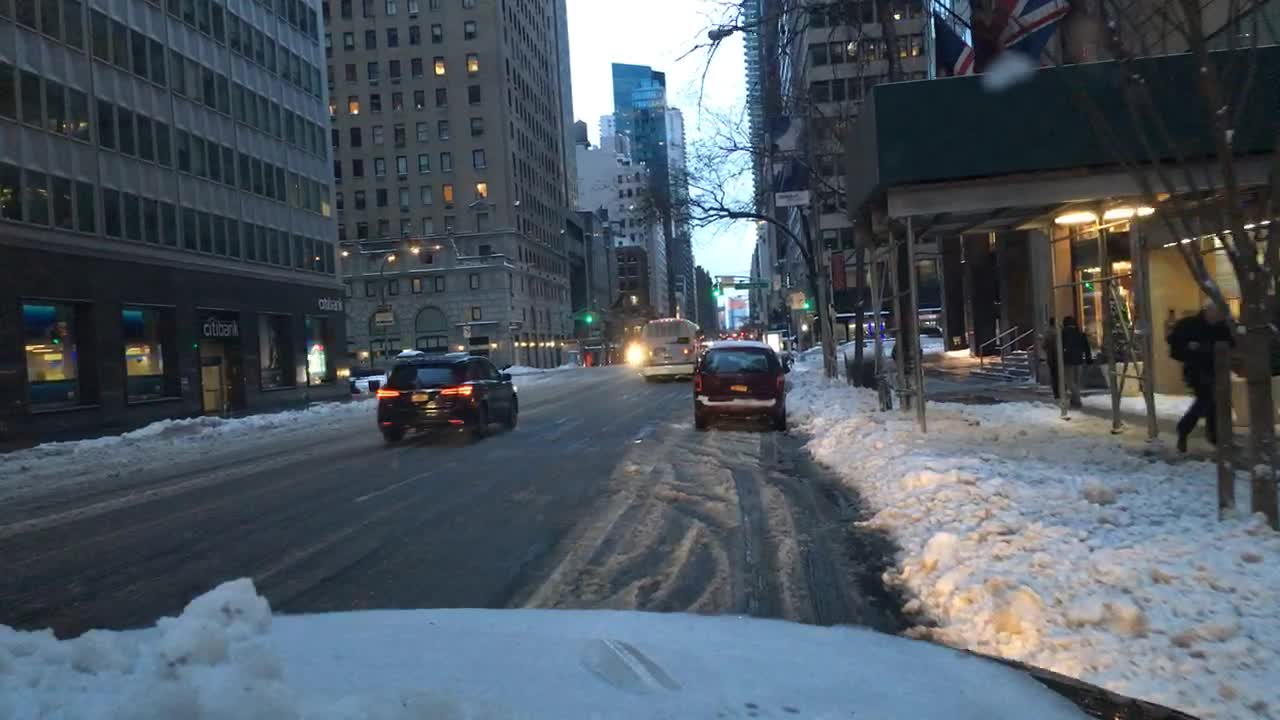bus: (638, 316, 701, 381)
car: (374, 351, 517, 442), (690, 339, 787, 432), (774, 345, 807, 366), (626, 344, 638, 364), (701, 339, 713, 351)
person: (1162, 296, 1240, 451), (1059, 313, 1094, 408), (1043, 313, 1063, 391)
traffic light: (585, 309, 595, 324), (801, 321, 811, 330), (801, 300, 809, 310), (713, 284, 718, 296)
traffic sign: (771, 187, 816, 209), (736, 278, 768, 289), (788, 290, 803, 309), (374, 314, 396, 326), (722, 272, 732, 285)
